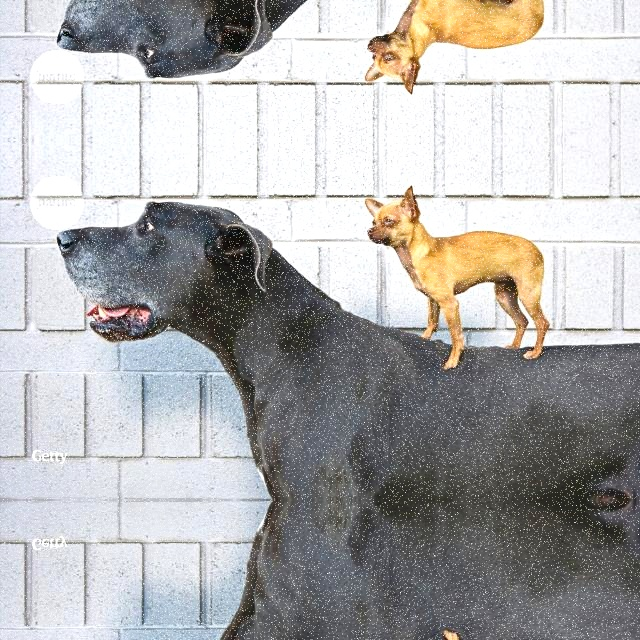dog: (32, 185, 288, 355), (32, 0, 288, 95), (344, 22, 434, 110), (344, 170, 434, 257)
